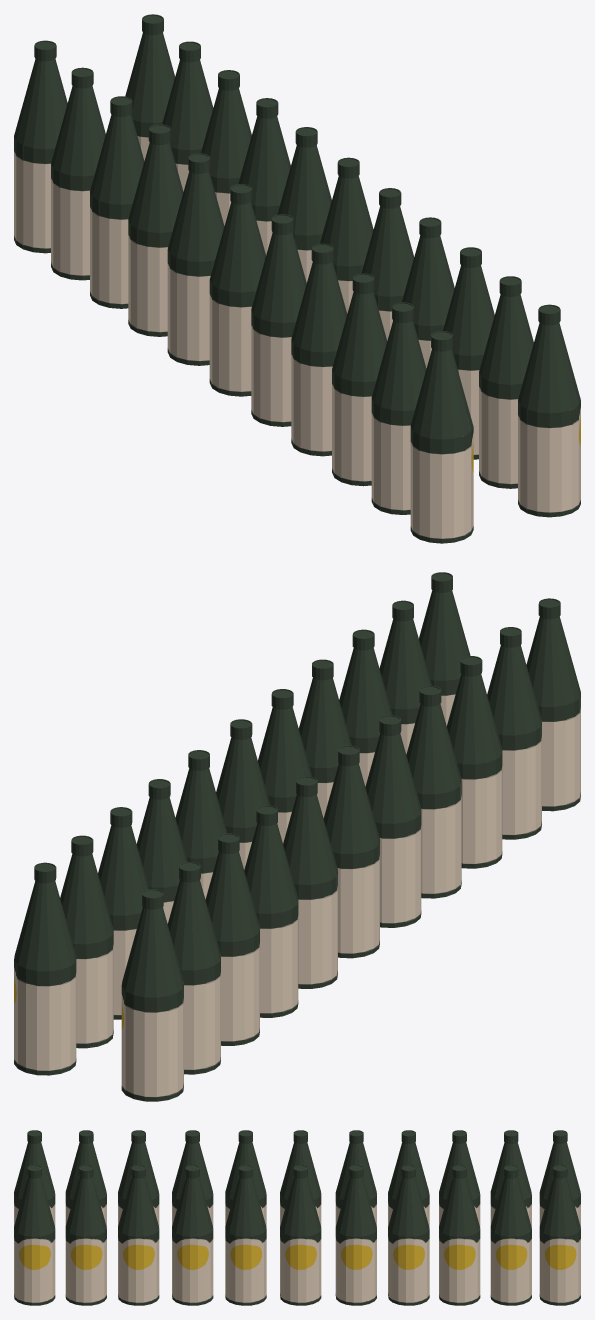
File: S.BeerPile.fbx
3 renders of one model, top to bottom at view 1: azimuth 30°, elevation 25°; view 2: azimuth 150°, elevation 25°; view 3: azimuth 270°, elevation 25°, orthographic. The views are drawn at different scales.
Parts seen in each view (by area): view 1: BeerBottlePile; view 2: BeerBottlePile; view 3: BeerBottlePile.
Boxes of the visible parts, box(x1,y1,x2,y2) form: BeerBottlePile: box(14, 14, 580, 543); BeerBottlePile: box(14, 572, 580, 1101); BeerBottlePile: box(14, 1130, 580, 1305).
Bounding box in the file's own units: 69.13 × 79.67 × 317.
